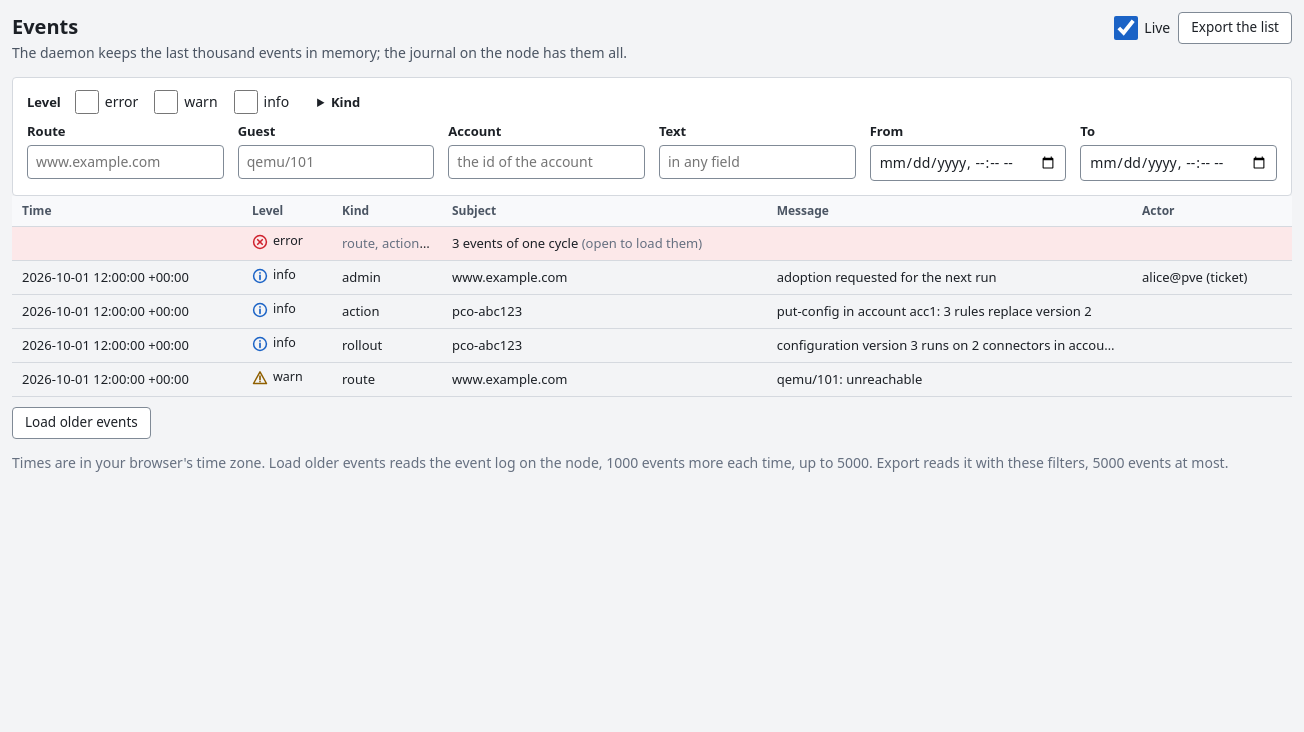
Test: a gap › loads the events of its range when it is opened
Click the text "3 events of one cycle (open to load them)".
click(477, 243)  # box [452, 234, 702, 252]
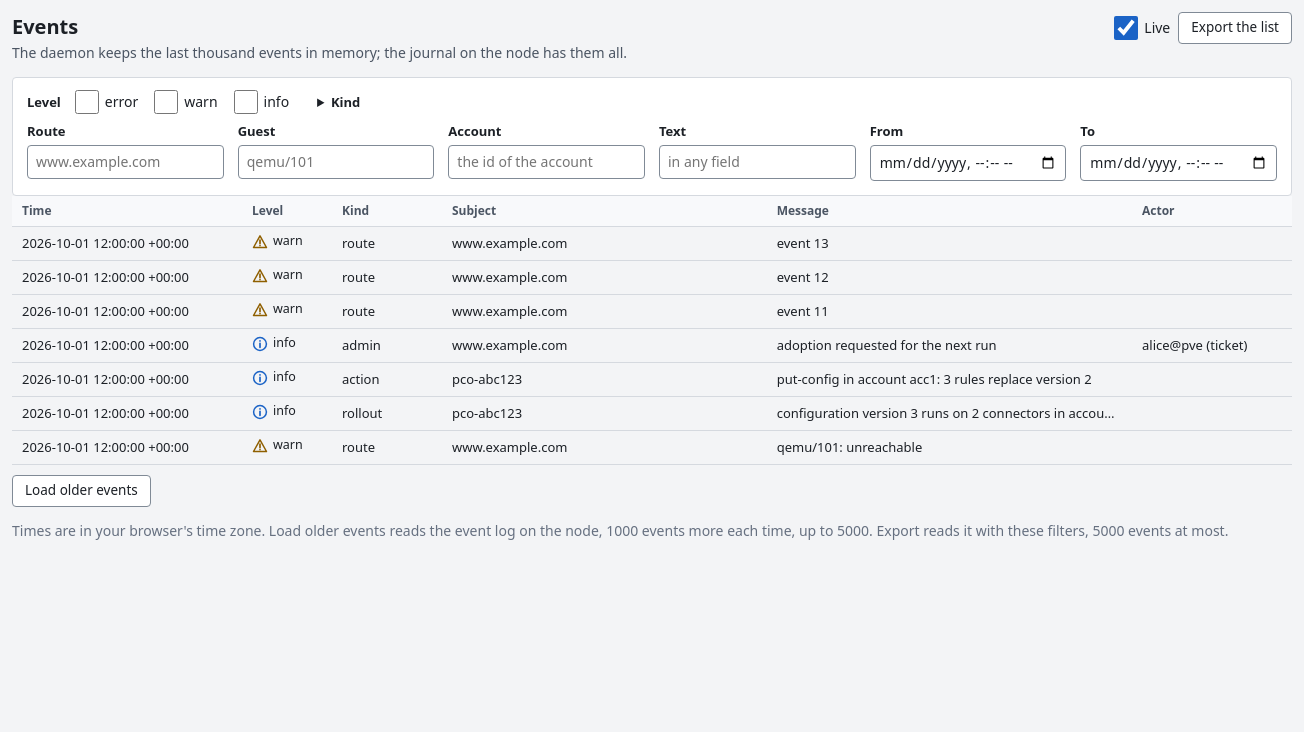
Check: the text "event 12" is shown, box [777, 268, 829, 286]
